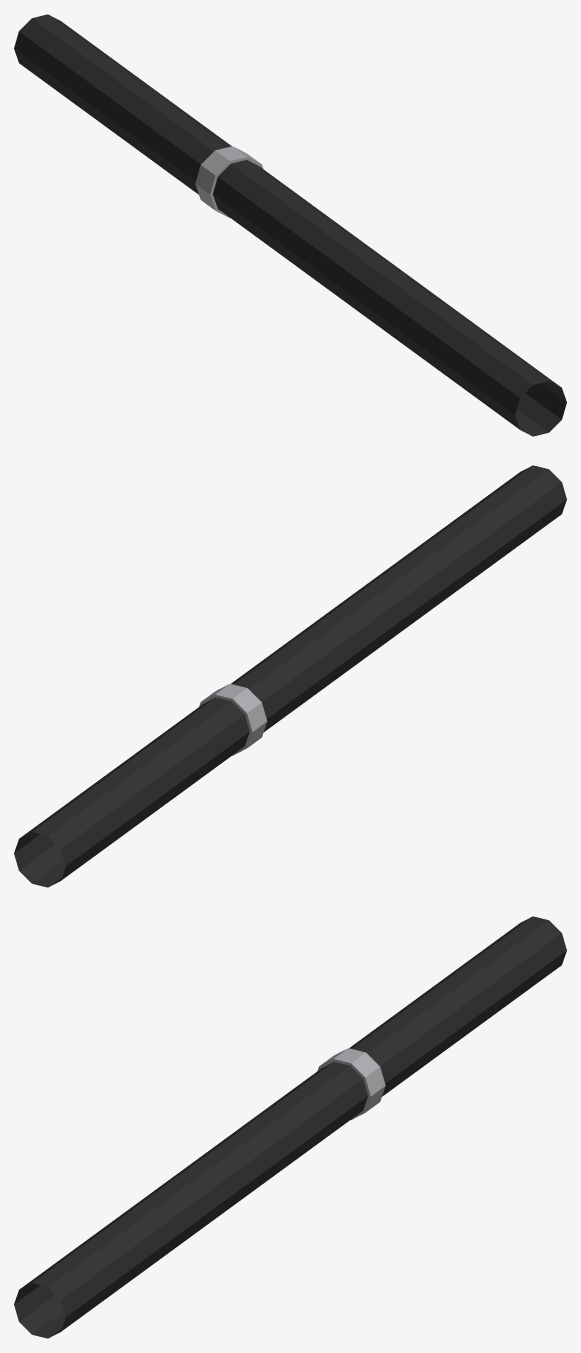
Rendered from SmallPipe02T3.fbx.
The picture shows the model from 3 angles, top to bottom: view 1: azimuth 30°, elevation 25°; view 2: azimuth 150°, elevation 25°; view 3: azimuth 330°, elevation 25°; orthographic projection.
Visible parts, largest first — view 1: SmallPipe02T3; view 2: SmallPipe02T3; view 3: SmallPipe02T3.
Part boxes in pixels (x1=…): SmallPipe02T3: x1=14, y1=14, x2=566, y2=436; SmallPipe02T3: x1=14, y1=465, x2=566, y2=887; SmallPipe02T3: x1=14, y1=916, x2=566, y2=1338.
Bounding box in the file's own units: 15.68 × 14.91 × 238.
